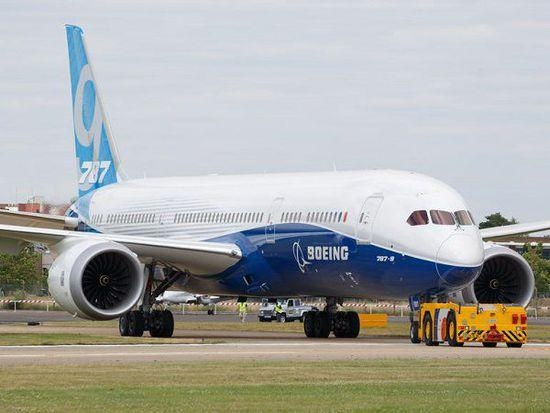airplane: (7, 23, 535, 335)
